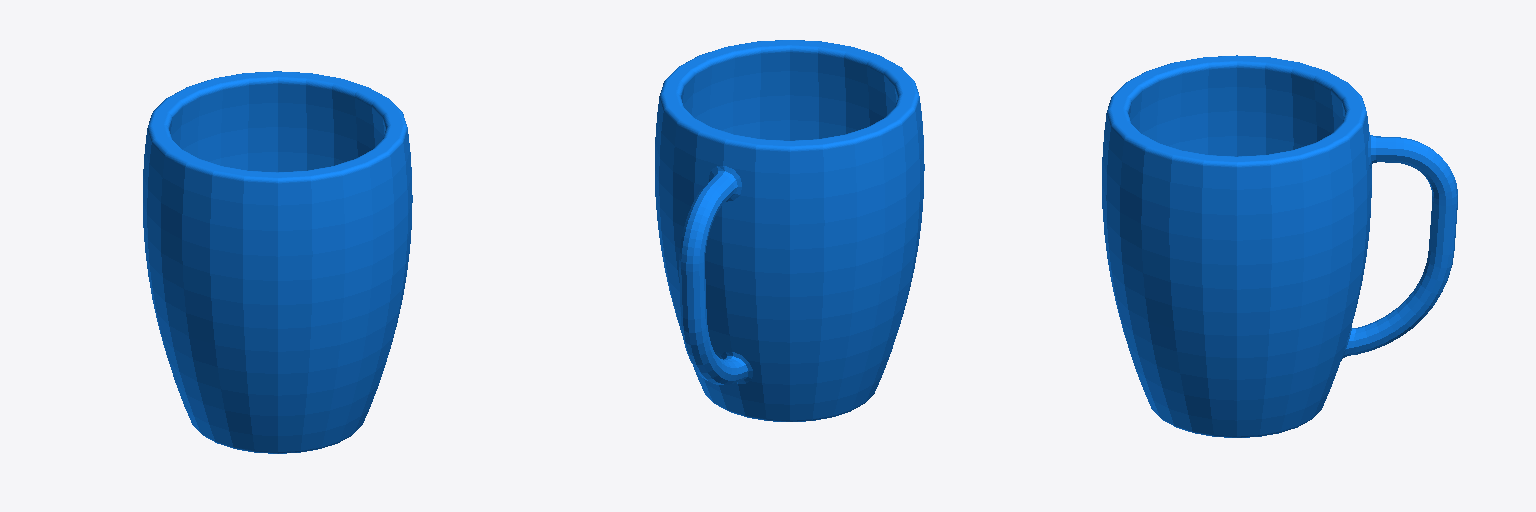
The picture shows the model from 3 angles: view 1: azimuth 30°, elevation 25°; view 2: azimuth 150°, elevation 25°; view 3: azimuth 270°, elevation 25°; orthographic projection.
Parts seen in each view (by area): view 1: model_normalized.005; view 2: model_normalized.005; view 3: model_normalized.005.
Boxes of the visible parts, <box> form: model_normalized.005: <box>143,71,412,453</box>; model_normalized.005: <box>655,40,924,421</box>; model_normalized.005: <box>1102,55,1457,437</box>.
Size of the model in its own units: 0.4888 by 0.5875 by 0.645.